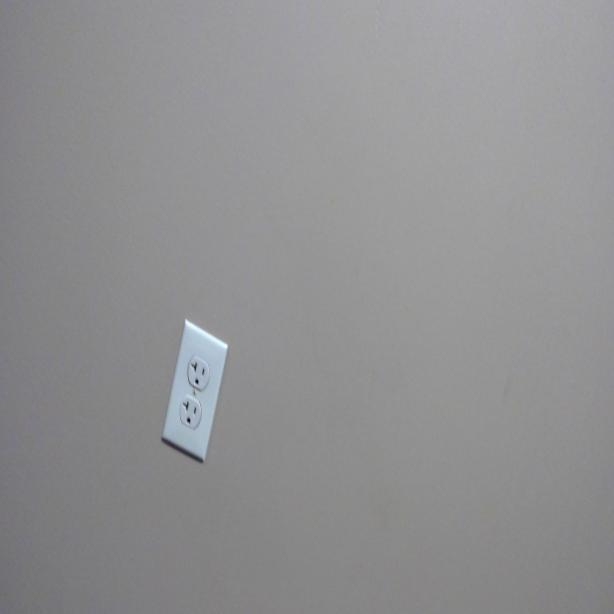typeb: (186, 356, 209, 390), (180, 397, 201, 431)
